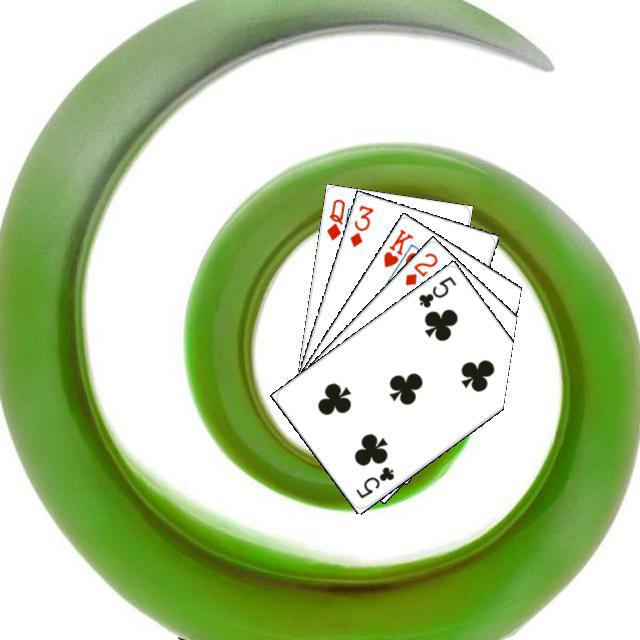2d: (400, 247, 440, 287)
3d: (345, 200, 376, 249)
5c: (351, 461, 396, 500), (414, 271, 458, 310)
Kh: (378, 224, 416, 278)
Qd: (322, 194, 347, 242)
